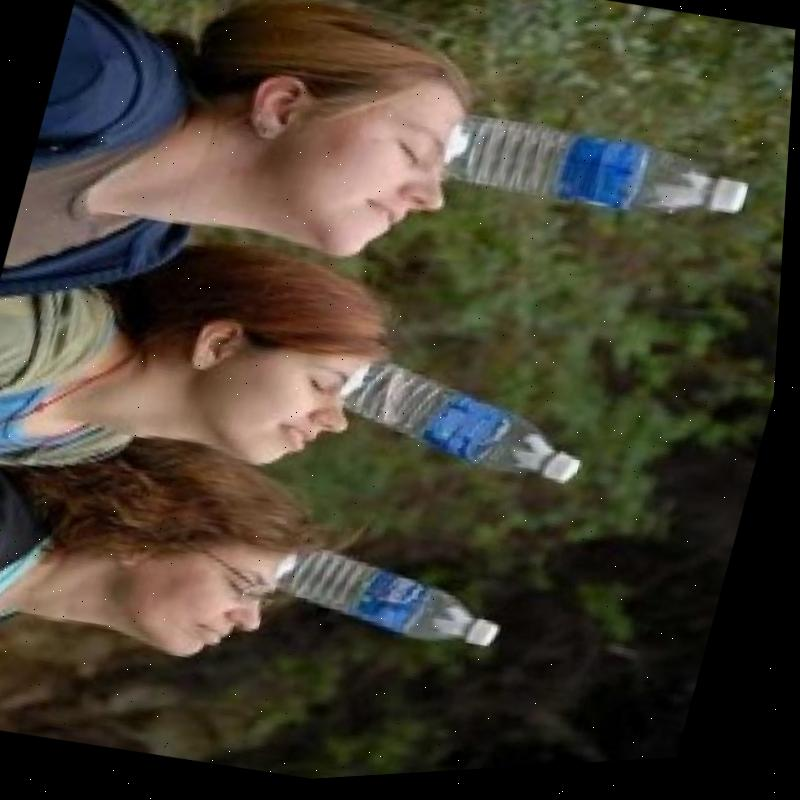botella: (436, 101, 763, 251), (328, 348, 611, 507), (270, 534, 524, 672)
